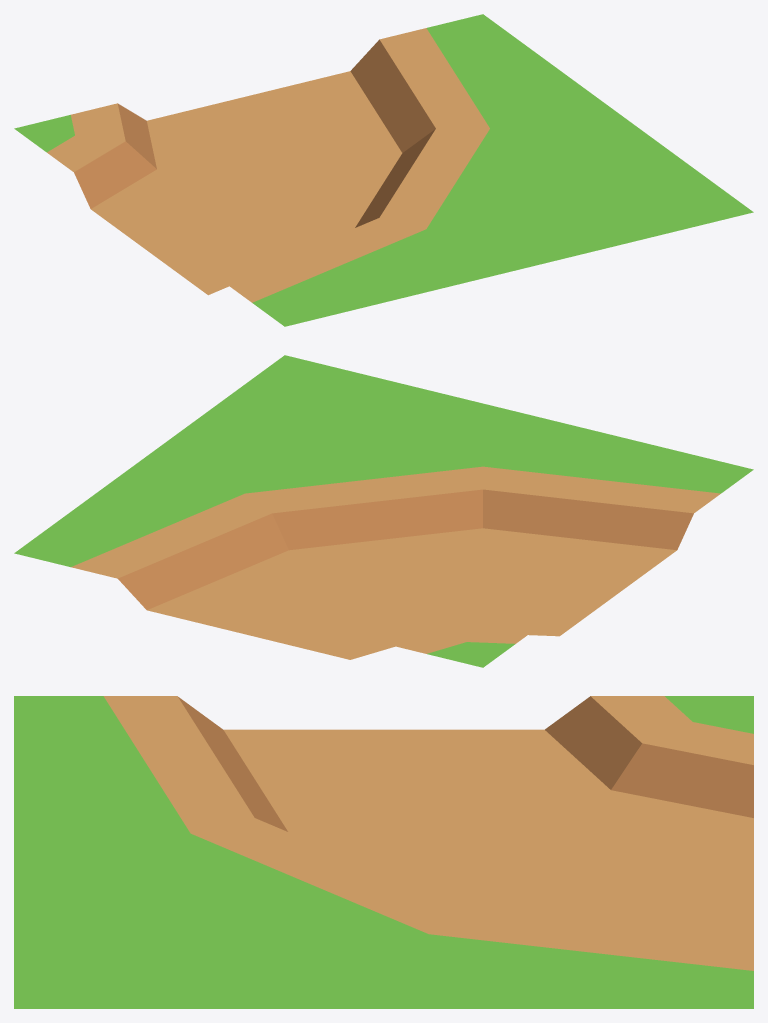
Rendered from path-bend.glb.
3 views of the same model, one above another, from view 1: azimuth 30°, elevation 25°; view 2: azimuth 150°, elevation 25°; view 3: azimuth 270°, elevation 25° (orthographic). The views are drawn at different scales.
Visible parts, largest first — view 1: ground_pathBend; view 2: ground_pathBend; view 3: ground_pathBend.
Part boxes in pixels (<box>): ground_pathBend: <box>14,14,753,326</box>; ground_pathBend: <box>14,355,753,667</box>; ground_pathBend: <box>14,696,753,1008</box>.
Bounding box in the file's own units: 4 × 0.2002 × 4.
